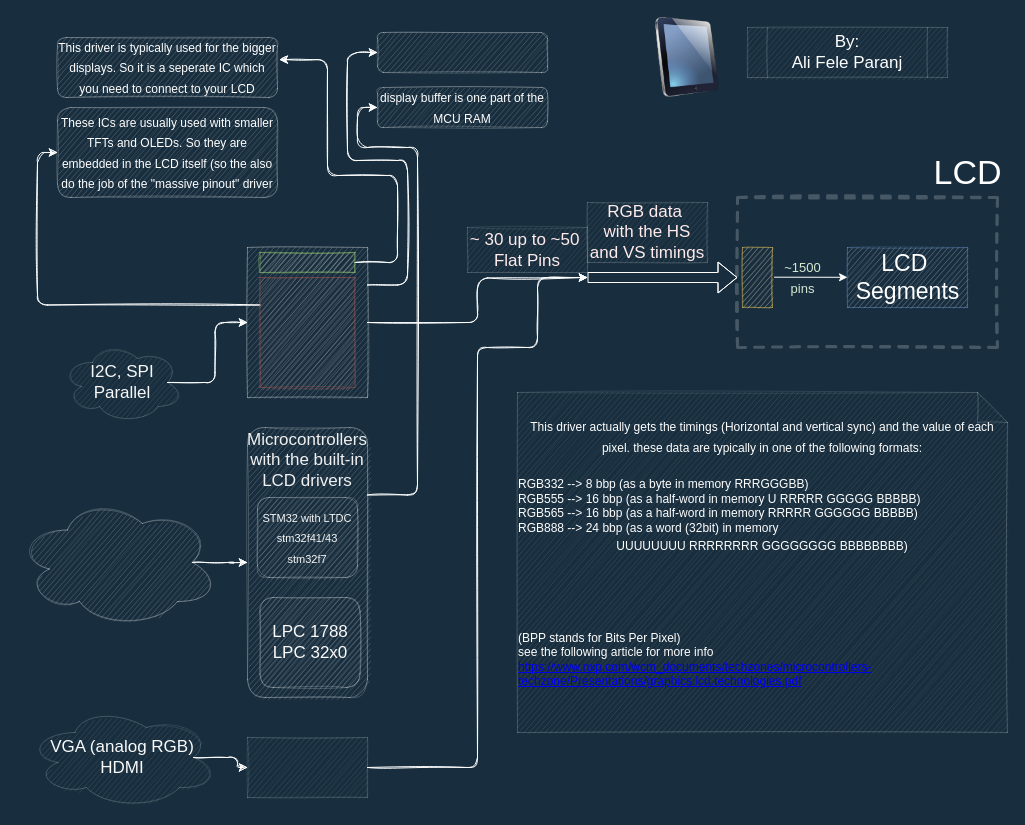
The diagram is 1025 pixels wide and 825 high, and some of its shapes have lost their labels. The shapes that lost their labels are listed below. From the top down, each one's centre as x and y in pixels, then its label:
point 462,52: display buffer is located inside these ICs
point 687,57: Displayers And Drivers
point 307,262: FTxx
point 757,277: Driver
point 307,332: ILI9341 SSD1306 SSD1298 ST7735S ...
point 117,562: direct access to the display buffer (in the micro controller)
point 307,767: RTD2662 ...
